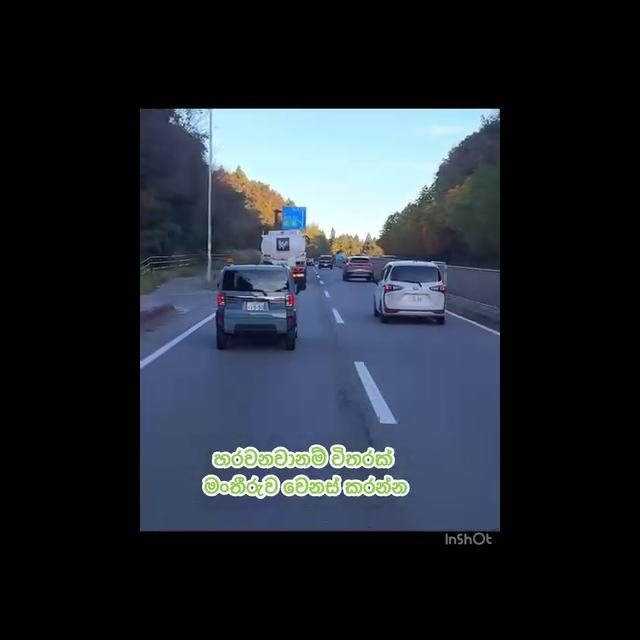illegal overtaking: (318, 319, 376, 409)
illegal u turn: (223, 262, 290, 334), (391, 260, 435, 316)
